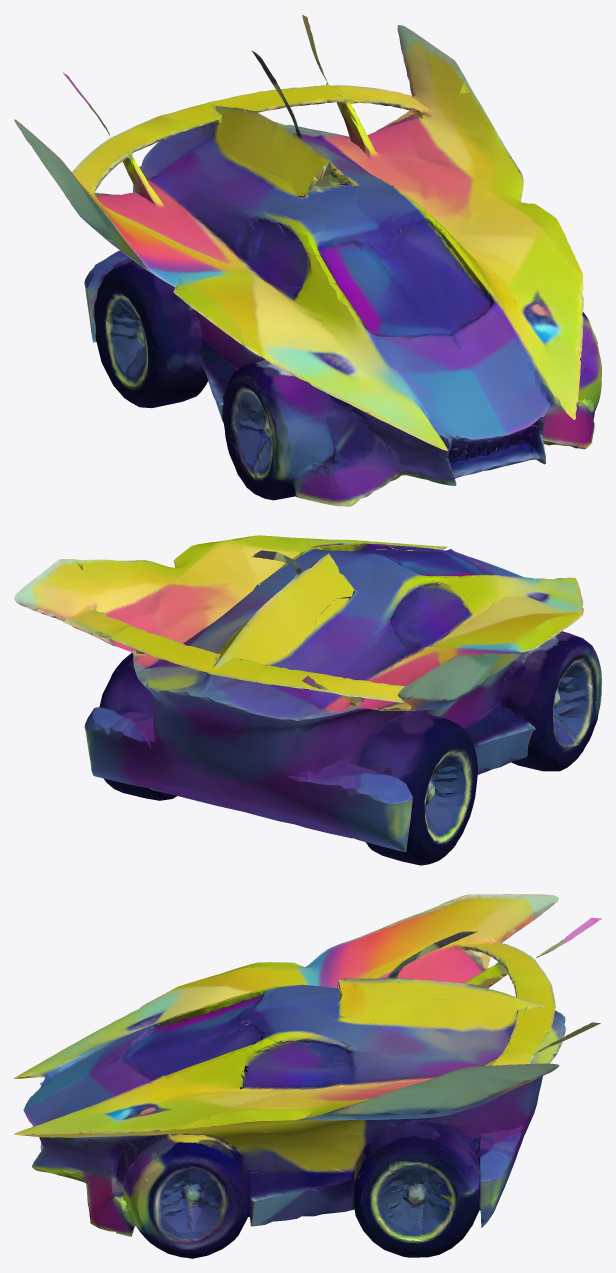
File: timeattack2.glb
3 renders of one model, top to bottom at view 1: azimuth 30°, elevation 25°; view 2: azimuth 150°, elevation 25°; view 3: azimuth 270°, elevation 25°, orthographic. The views are drawn at different scales.
Parts seen in each view (by area): view 1: body, panel_trunk, wheel_front_L, wheel_rear_L, panel_bumper_f, panel_roof, wheel_front_R, panel_door_L, panel_hood; view 2: body, panel_trunk, wheel_rear_L, wheel_front_L, panel_door_L, panel_bumper_r, wheel_rear_R, panel_roof, panel_bumper_f; view 3: body, panel_trunk, wheel_front_R, wheel_rear_R, panel_bumper_f, panel_roof, panel_hood.
Part boxes in pixels (x1,y1,x2,y2): body: [77, 92, 590, 501]; panel_trunk: [14, 14, 523, 268]; wheel_front_L: [197, 345, 395, 506]; wheel_rear_L: [84, 250, 218, 408]; panel_bumper_f: [292, 291, 577, 485]; panel_roof: [245, 133, 448, 287]; wheel_front_R: [514, 300, 601, 449]; panel_door_L: [116, 207, 309, 368]; panel_hood: [237, 234, 571, 346]; body: [76, 535, 583, 801]; panel_trunk: [14, 550, 522, 730]; wheel_rear_L: [309, 711, 480, 865]; wheel_front_L: [464, 591, 601, 774]; panel_door_L: [240, 592, 548, 808]; panel_bumper_r: [93, 721, 401, 850]; wheel_rear_R: [84, 653, 221, 800]; panel_roof: [253, 546, 462, 641]; panel_bumper_f: [359, 543, 582, 606]; body: [14, 900, 561, 1228]; panel_trunk: [323, 894, 601, 1151]; wheel_front_R: [77, 1131, 354, 1258]; wheel_rear_R: [308, 1119, 519, 1257]; panel_bumper_f: [14, 1007, 191, 1180]; panel_roof: [235, 976, 412, 1061]; panel_hood: [162, 994, 253, 1137].
Bounding box in the file's own units: 2.78 × 1.96 × 4.
Materials: 1 (1 with a texture image).
